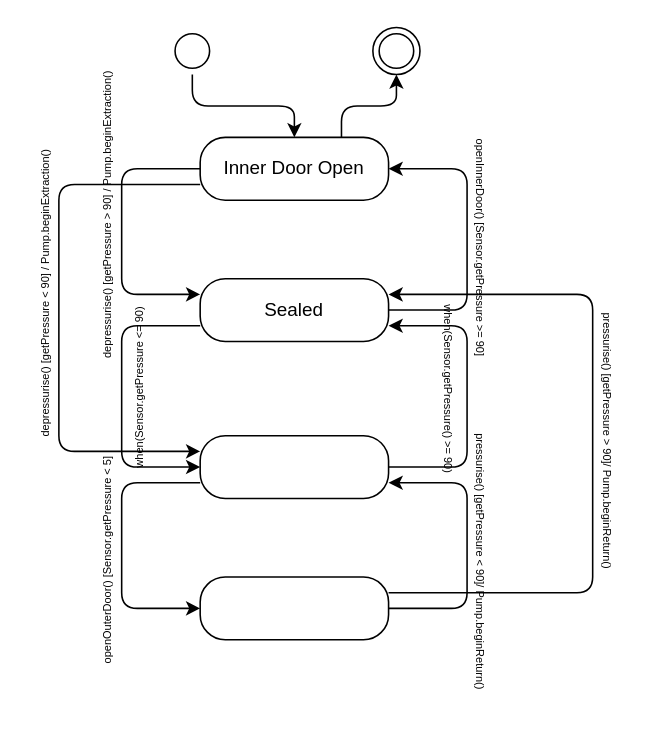
The diagram is 650 pixels wide and 730 high, and some of its shapes have lost their labels. The shapes that lost their labels are listed below. From the top down, each one's centre as x and y in pixels, then its label:
At (294,466): "SealedDepressurised".
At (294,607): "Outer Door Open".
